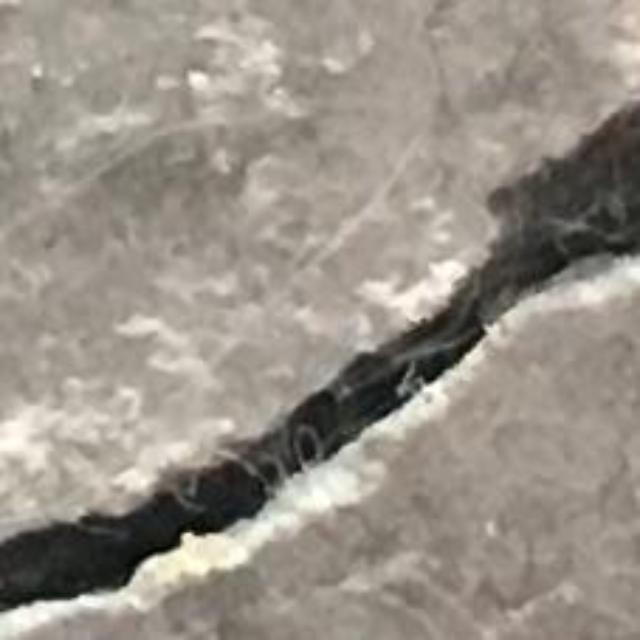crack: (0, 102, 639, 637)
